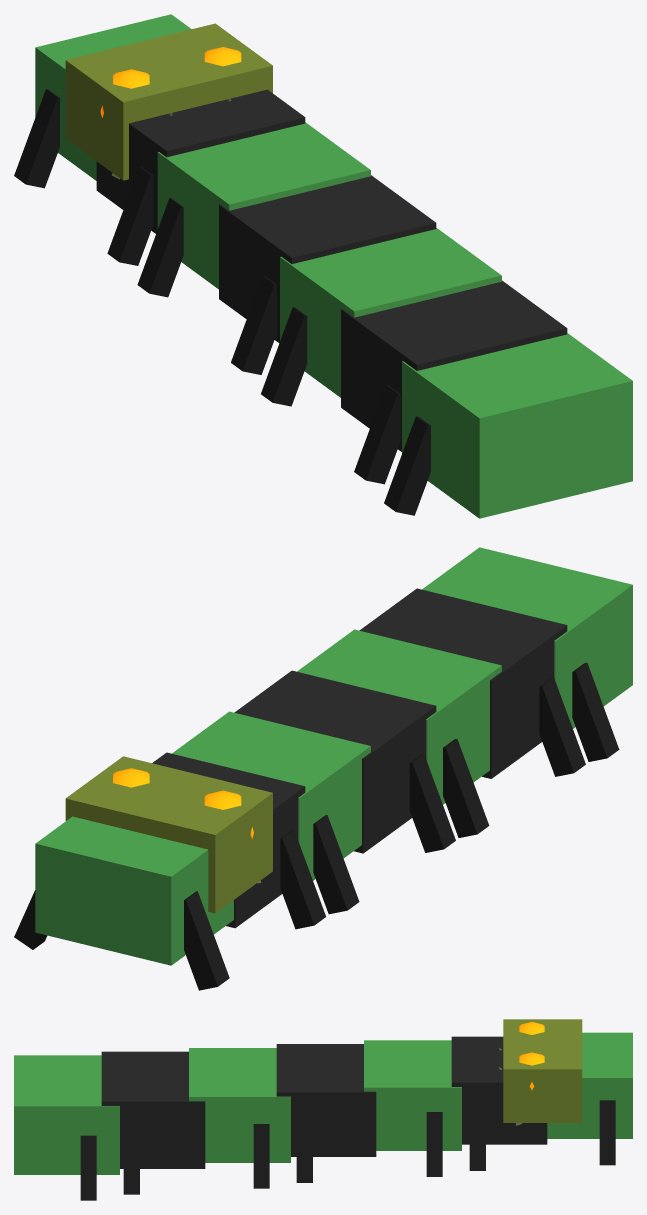
File: RiversideCrawlerB.glb
3 renders of one model, top to bottom at view 1: azimuth 30°, elevation 25°; view 2: azimuth 150°, elevation 25°; view 3: azimuth 270°, elevation 25°, orthographic. The views are drawn at different scales.
Visible parts, largest first — view 1: RiversideCrawlerBody; view 2: RiversideCrawlerBody; view 3: RiversideCrawlerBody.
Boxes of the visible parts, x1,y1,x2,y2 form: RiversideCrawlerBody: (14,14,632,518); RiversideCrawlerBody: (14,547,632,990); RiversideCrawlerBody: (14,1019,632,1200).
Size of the model in its own units: 0.3264 by 0.2651 by 1.14.
